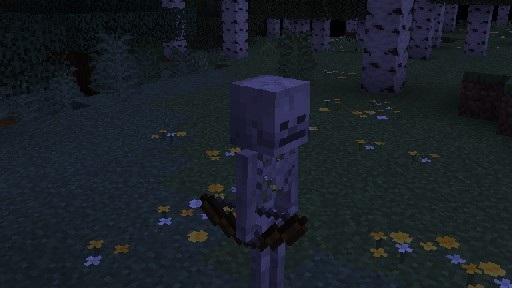skeleton: (199, 73, 310, 288)
